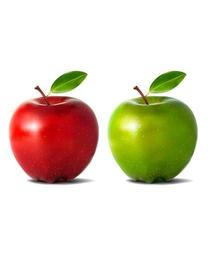apple: (8, 95, 98, 183), (108, 96, 198, 183)
